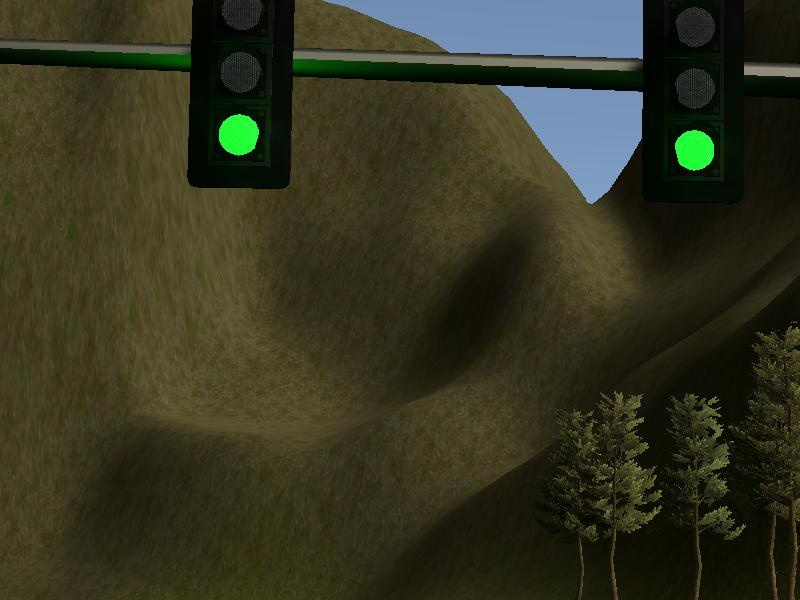Green: (637, 1, 747, 205), (186, 1, 296, 192)
